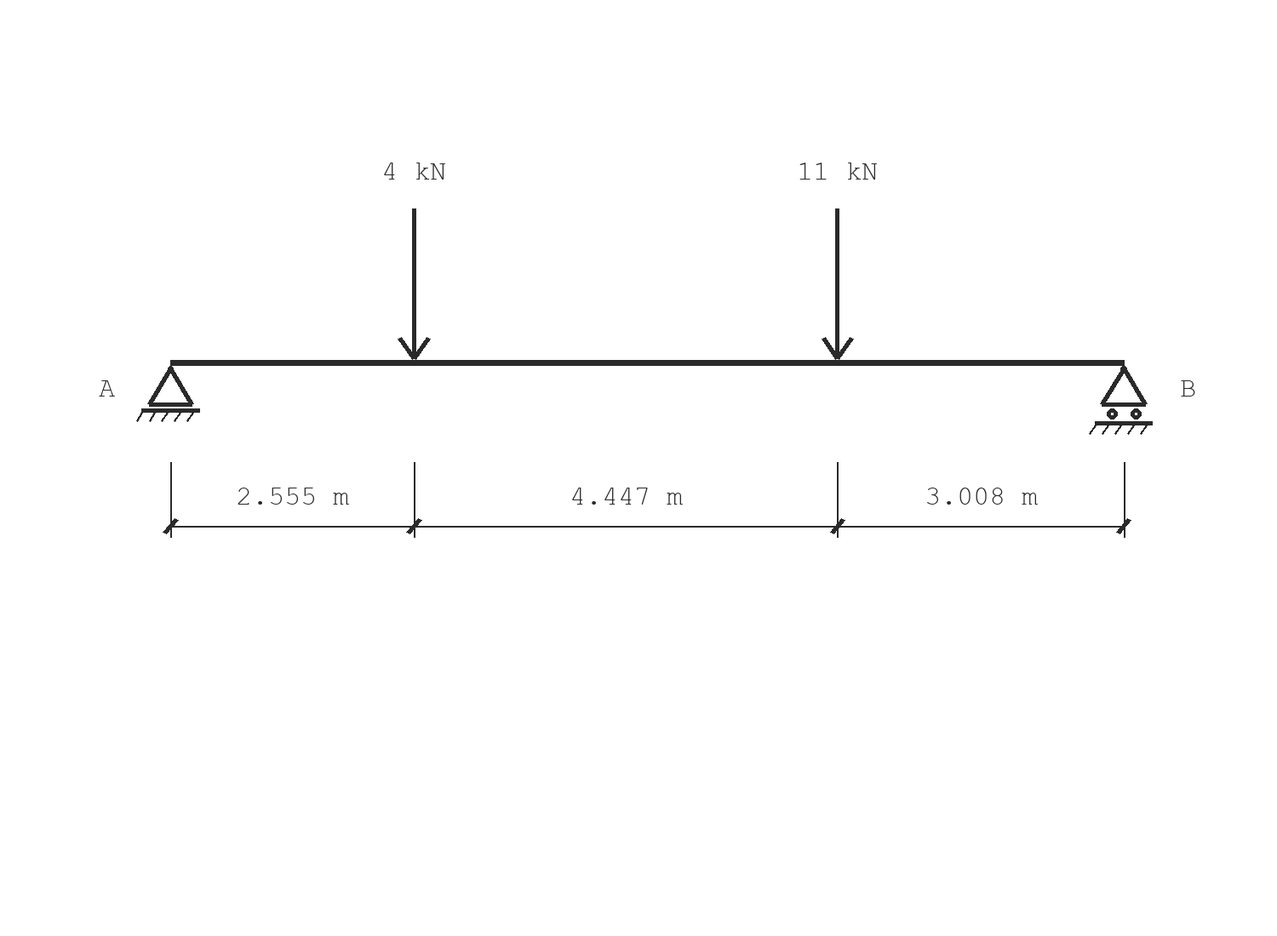pin_support: (136, 366, 200, 422)
point_load: (398, 208, 431, 360), (822, 208, 854, 360)
roller_support: (1089, 366, 1153, 435)
